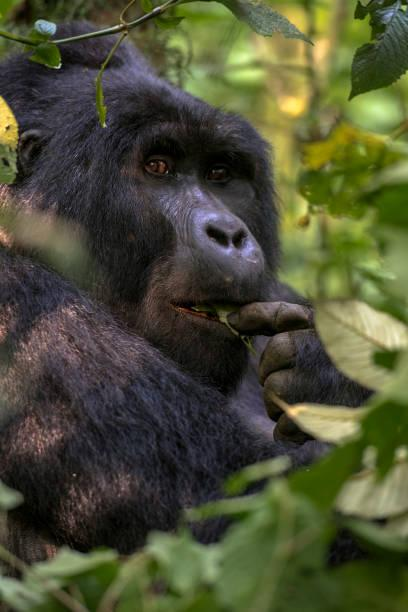goriile_montagne: (0, 2, 319, 547)
